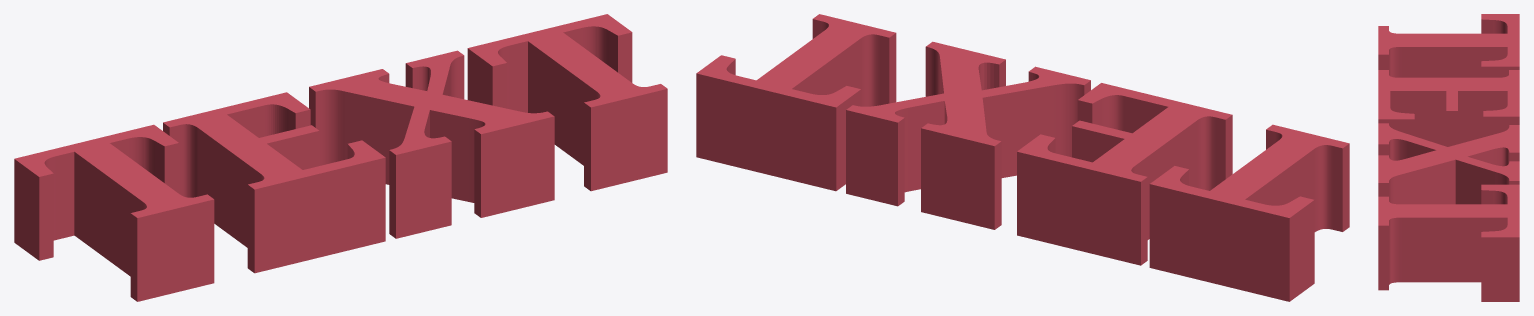
3 views of the same model, side by side, from view 1: azimuth 30°, elevation 25°; view 2: azimuth 150°, elevation 25°; view 3: azimuth 270°, elevation 25° (orthographic). The views are drawn at different scales.
Parts seen in each view (by area): view 1: Mesh_Mesh_head_geo.001_lambert2SG.001; view 2: Mesh_Mesh_head_geo.001_lambert2SG.001; view 3: Mesh_Mesh_head_geo.001_lambert2SG.001.
Part boxes in pixels (left/top/right/bottom): Mesh_Mesh_head_geo.001_lambert2SG.001: left=14, top=14, right=667, bottom=301; Mesh_Mesh_head_geo.001_lambert2SG.001: left=696, top=14, right=1349, bottom=301; Mesh_Mesh_head_geo.001_lambert2SG.001: left=1378, top=14, right=1519, bottom=301.
Bounding box in the file's own units: 74.06 × 10 × 19.82.
